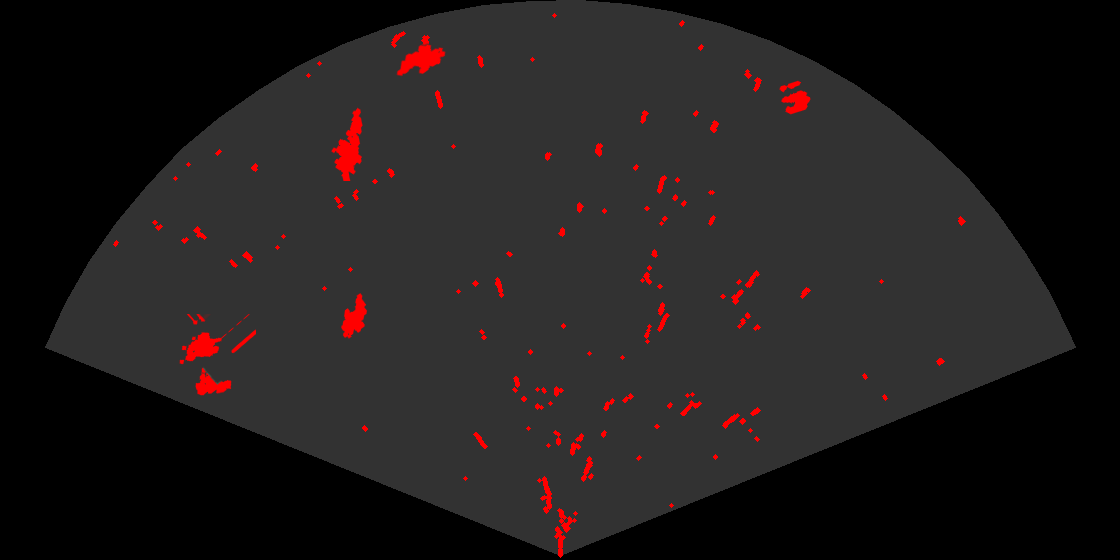AUV: (395, 43, 447, 78), (340, 292, 369, 340)
ball: (778, 79, 812, 116)
cage: (178, 314, 256, 397)
frogman: (330, 106, 364, 181)
